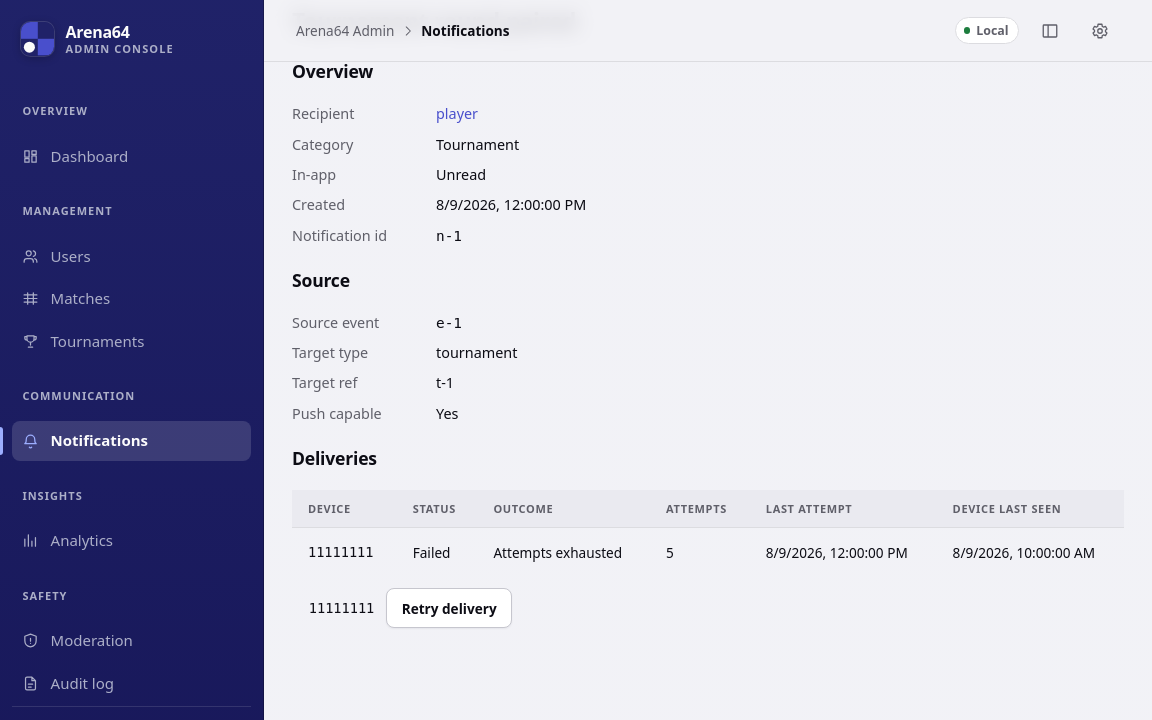
Test: keeps the page honest when the server refuses the retry
The width and height of the screenshot is (1152, 720).
(page scrolled)
Click the button "Retry delivery" at (449, 608), box [386,588,512,628]
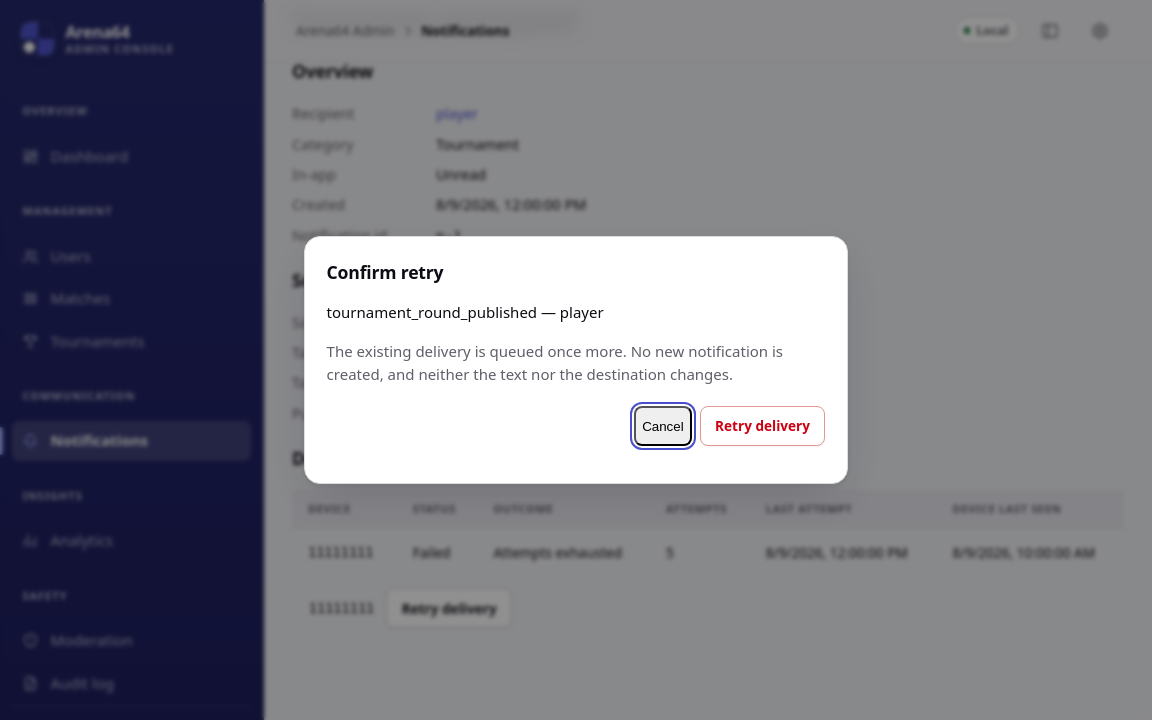
Click the button "Retry delivery" at (763, 426), box [700,406,825,446]
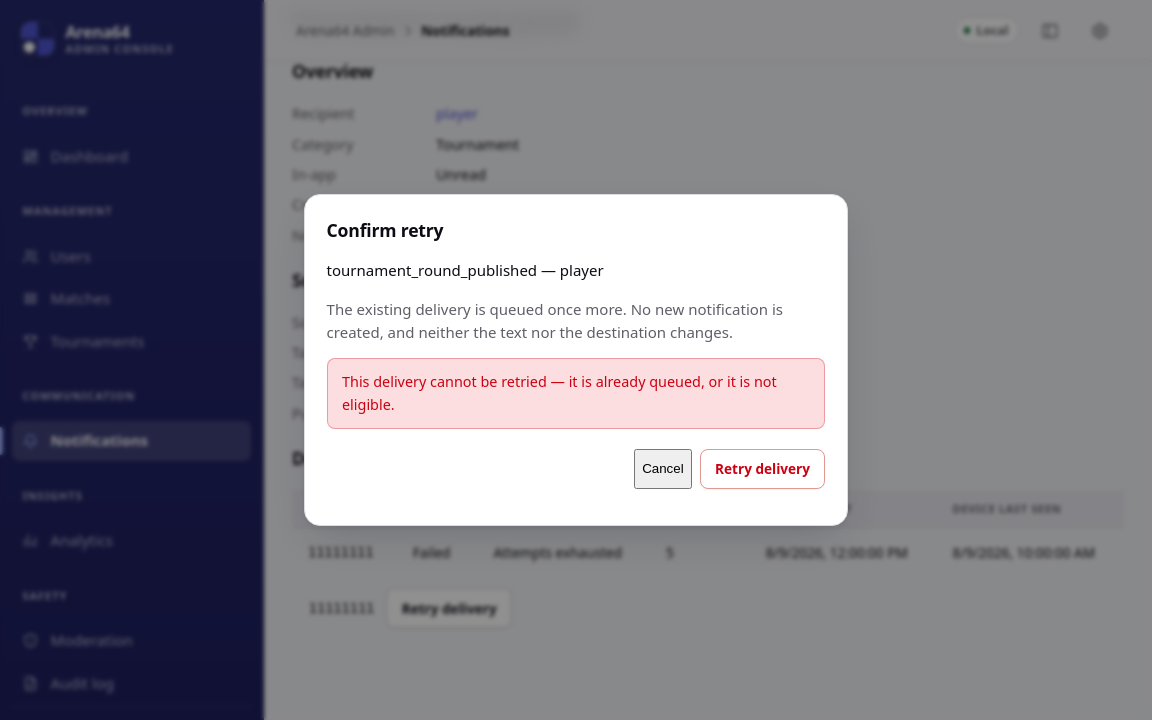
Expected: the message "This delivery cannot be retried — it is already queued, or it is not eligible." is shown, [327,358,825,429]
